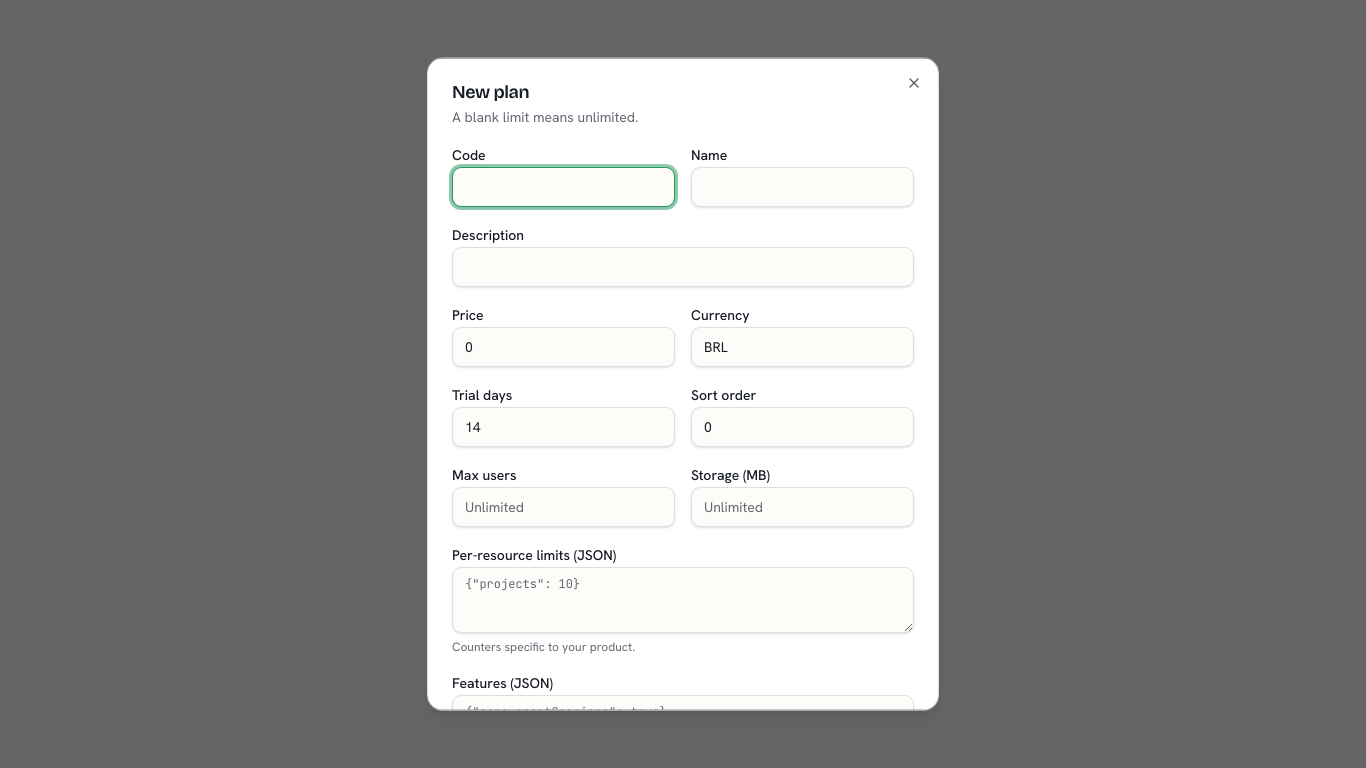
Test: PlanFormDialog — creating › refuses what the shared schema refuses, and says so
# An uppercase code breaks the contract's slug rule.
Type "Starter" into the field labelled "Code" at x=564, y=187, box [452, 167, 675, 207]
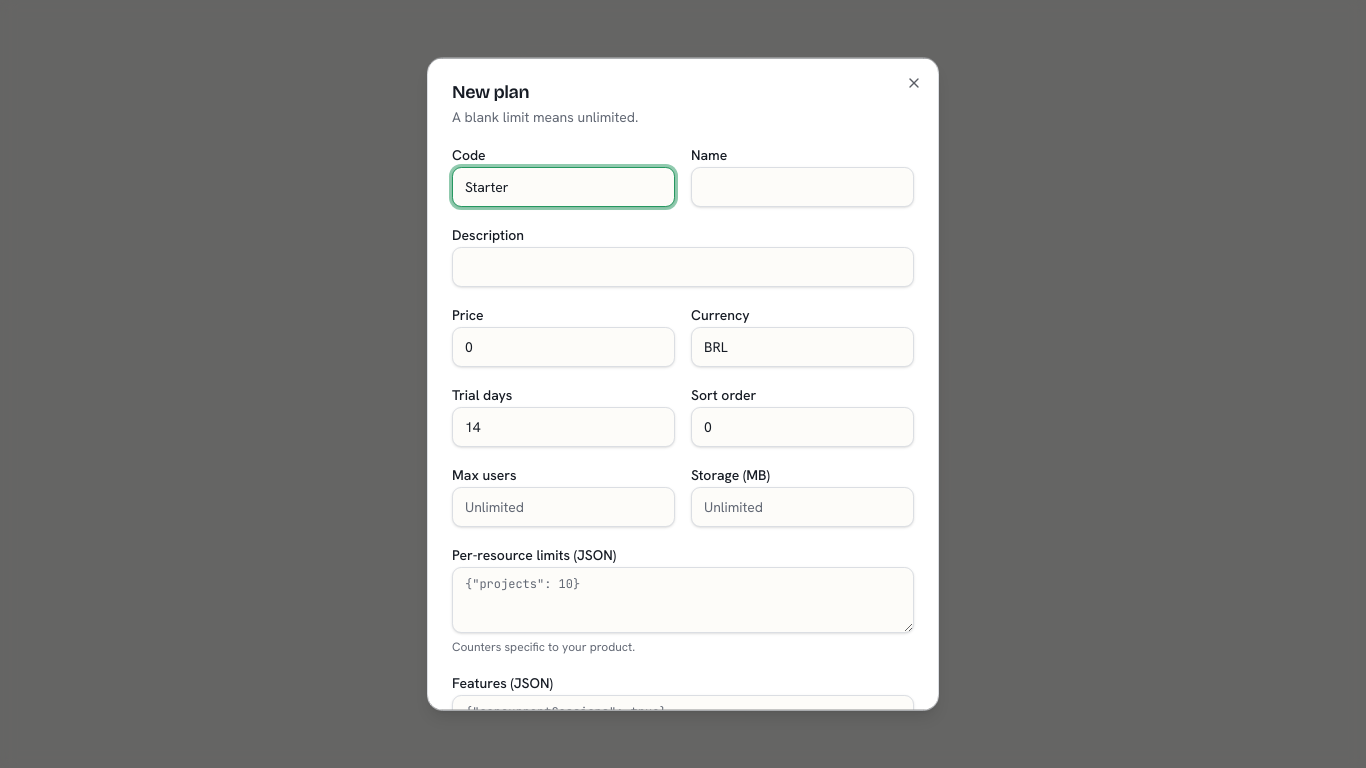
Type "Starter" into the field labelled "Name" at x=802, y=187, box [691, 167, 914, 207]
(page scrolled)
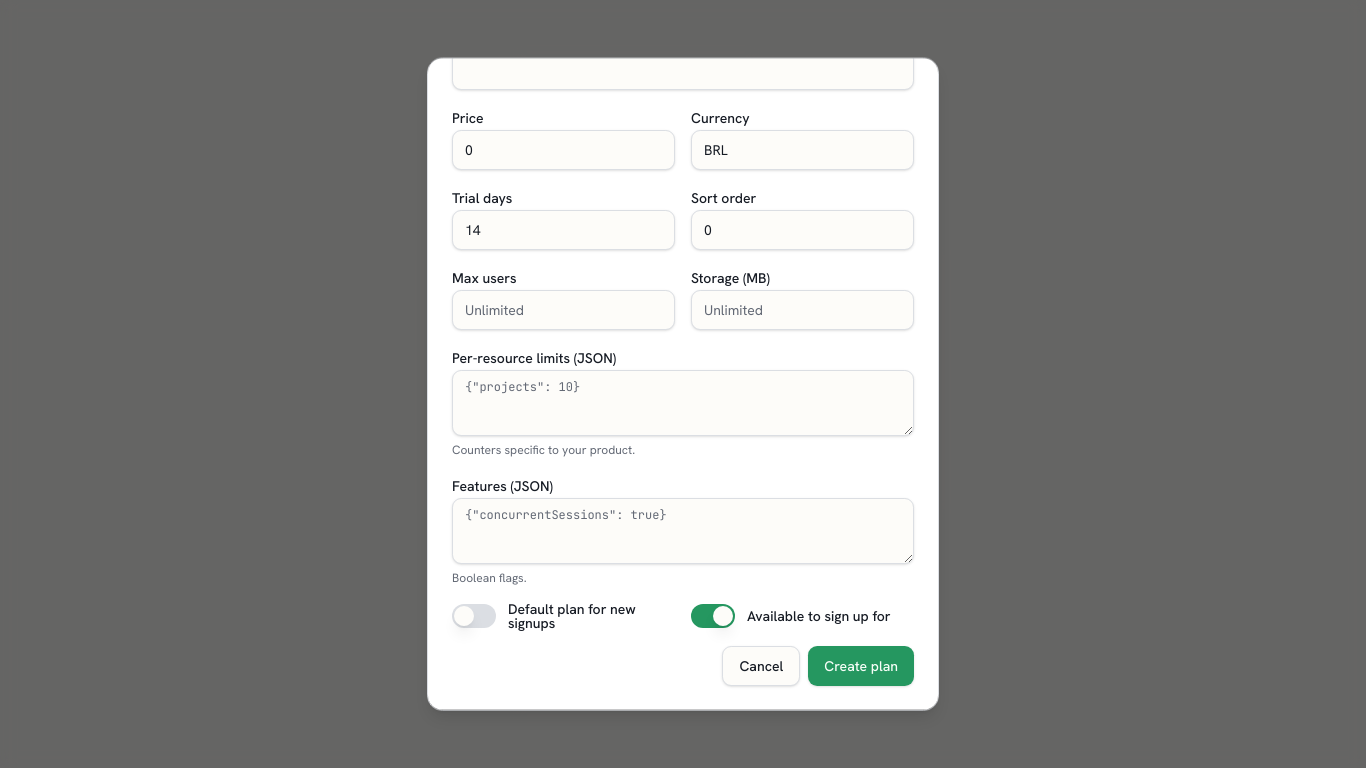
Click the button "Create plan" at x=861, y=666, box [808, 646, 914, 686]
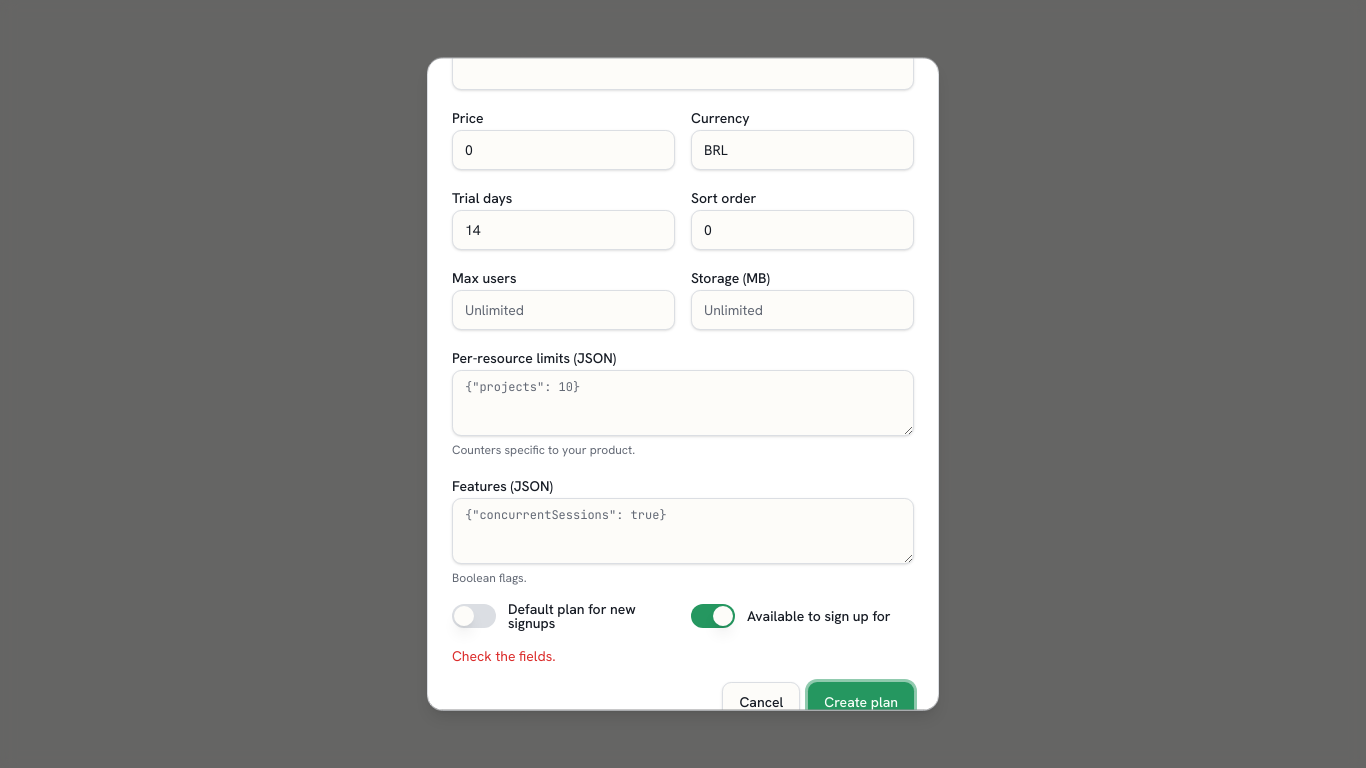
Check: the message reads "Check the fields.", box [452, 647, 556, 665]
